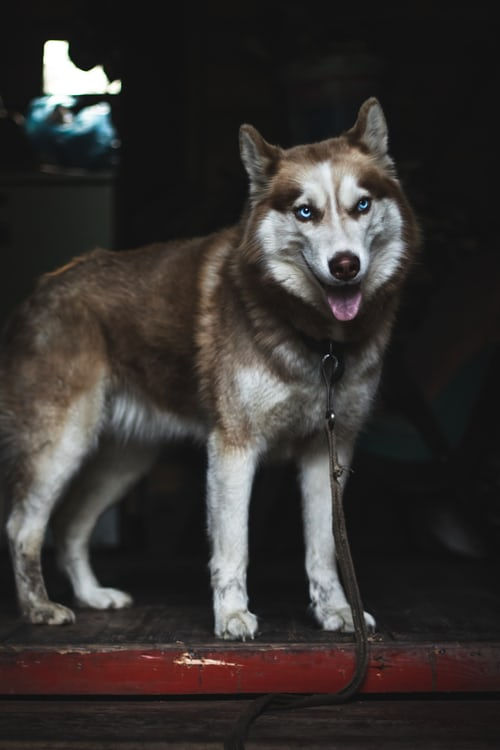husky: (17, 88, 421, 520)
